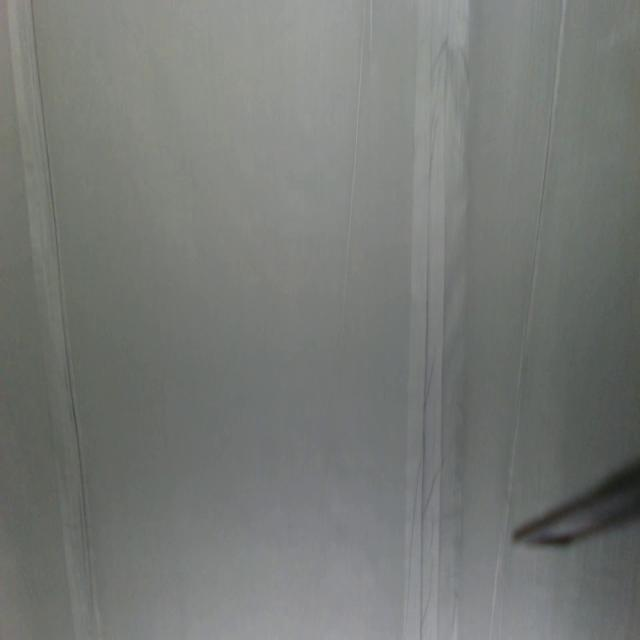crease: (485, 0, 567, 638), (23, 0, 101, 637), (406, 0, 454, 635), (342, 0, 374, 314)
